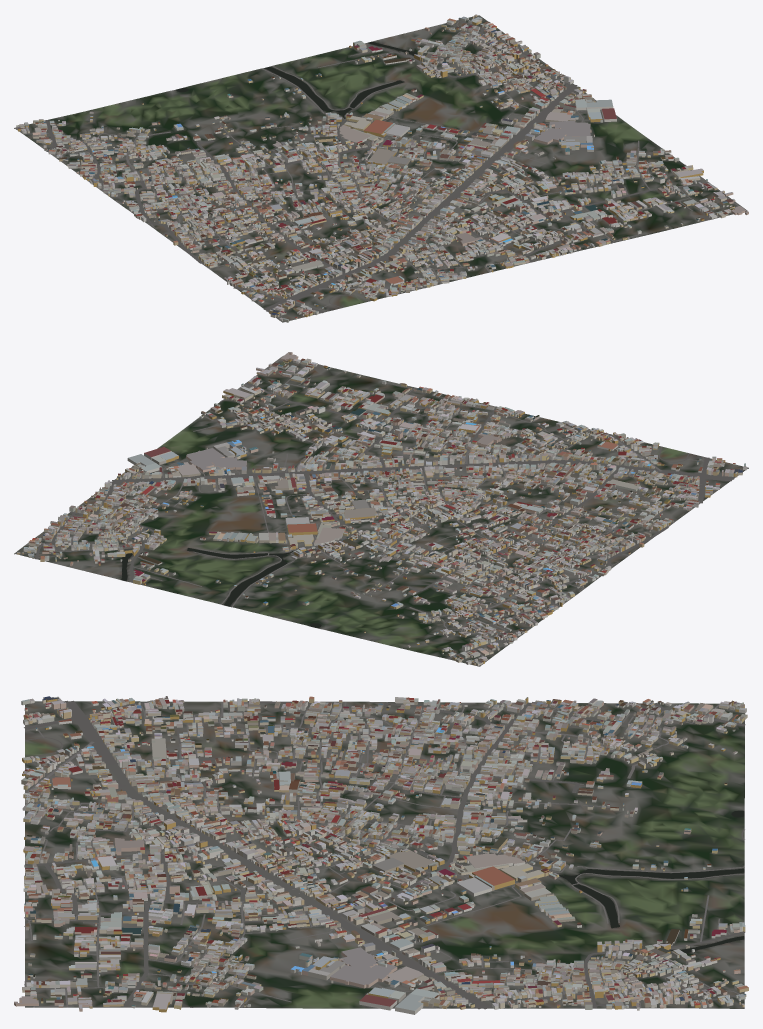
3 renders of one model, top to bottom at view 1: azimuth 30°, elevation 25°; view 2: azimuth 150°, elevation 25°; view 3: azimuth 270°, elevation 25°, orthographic. The views are drawn at different scales.
Parts seen in each view (by area): view 1: buildings, ground, roads, water; view 2: buildings, ground, roads, water; view 3: buildings, ground, roads, water.
Boxes of the visible parts, box(x1,y1,x2,y2) form: buildings: box(16, 14, 748, 322); ground: box(14, 15, 747, 322); roads: box(15, 20, 744, 313); water: box(176, 41, 417, 118); buildings: box(17, 352, 746, 665); ground: box(14, 355, 748, 666); roads: box(35, 358, 734, 666); water: box(121, 548, 321, 627); buildings: box(14, 696, 748, 1014); ground: box(25, 701, 744, 1008); roads: box(24, 700, 745, 1009); water: box(559, 810, 744, 953).
Bounding box in the file's own units: 1437 × 27.71 × 1430.
